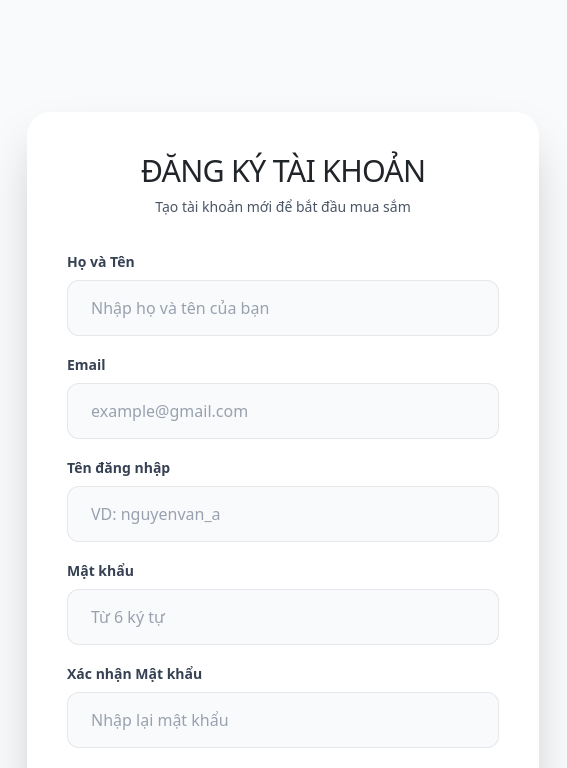
Test: Register Component › nên báo lỗi khi mật khẩu xác nhận không khớp
In the field with placeholder "Nhập họ và tên của bạn": coordinates (283, 308) [67,280,499,336], type "Nguyen Van A"
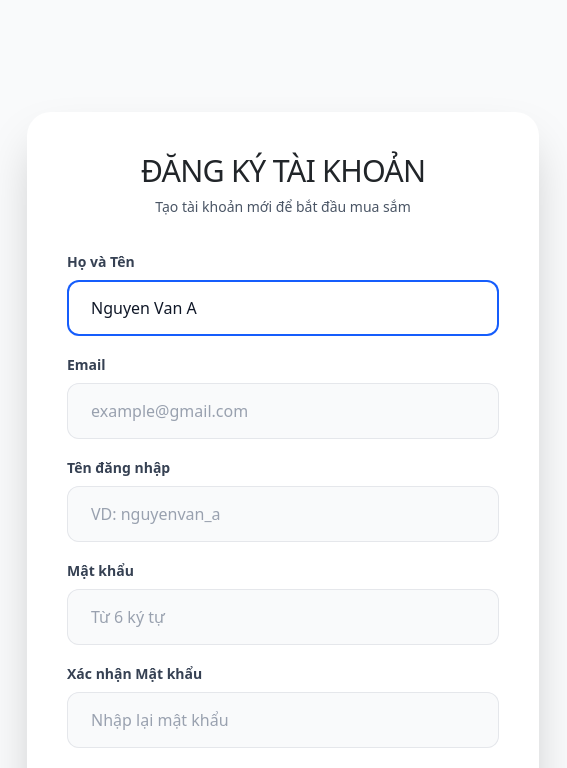
In the field with placeholder "example@gmail.com": coordinates (283, 410) [67,382,499,438], type "a@gmail.com"
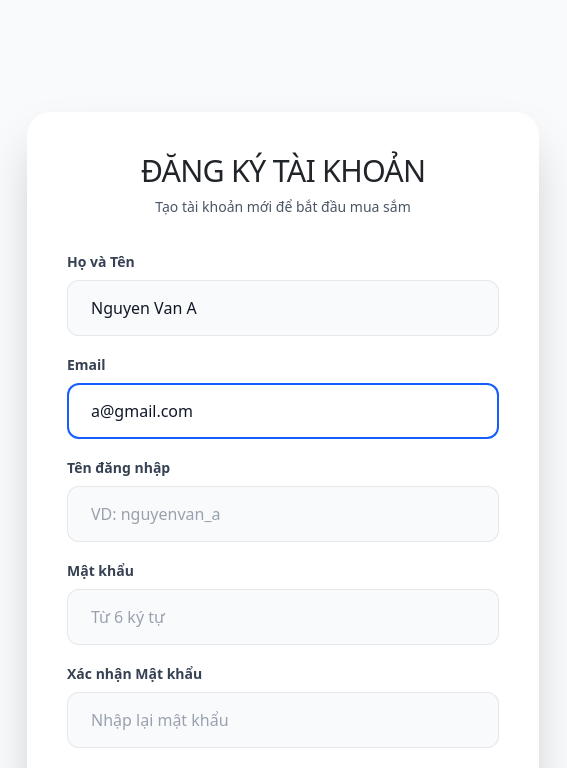
In the field with placeholder "VD: nguyenvan_a": coordinates (283, 514) [67,486,499,542], type "vana"
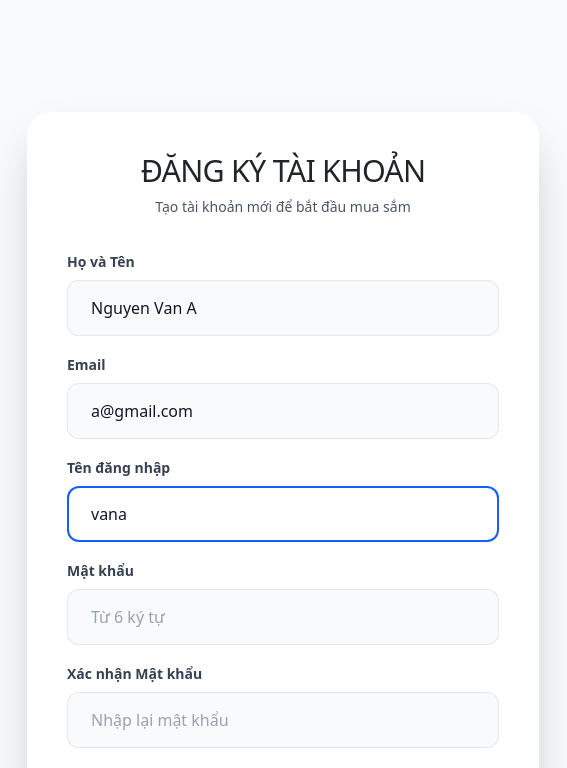
In the password field with test id "reg-password": coordinates (283, 616) [67,588,499,644], type "password123"
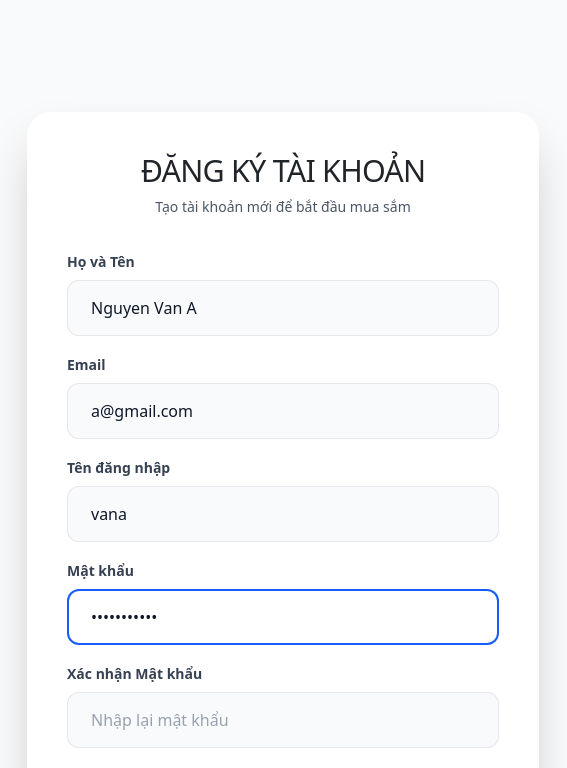
In the password field with test id "reg-confirm-password": coordinates (283, 720) [67,692,499,748], type "different"
(page scrolled)
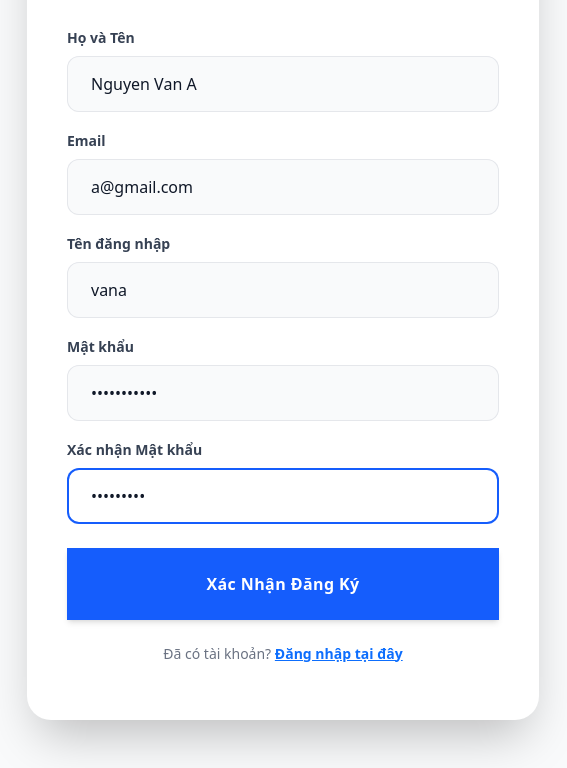
Click the button "Xác Nhận Đăng Ký": coordinates (283, 584) [67,548,499,620]
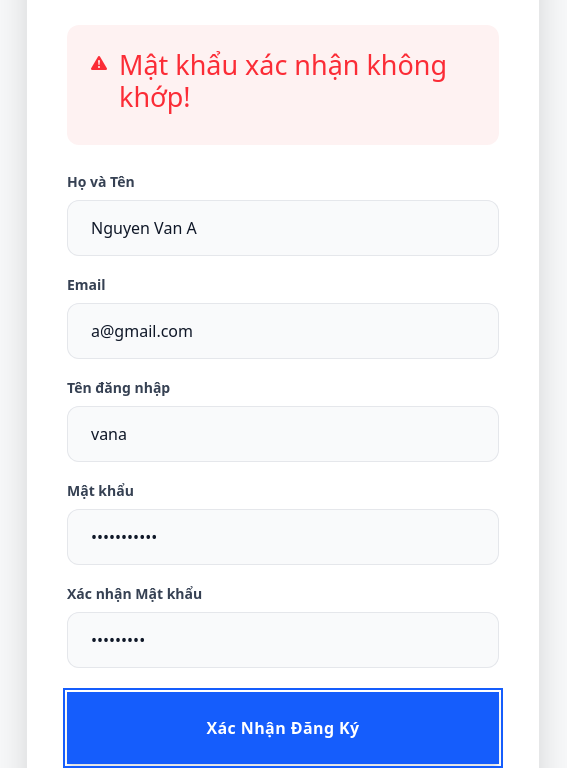
Now the element with test id "error-message" reads "Mật khẩu xác nhận không khớp!", box [119,46,447,115]
